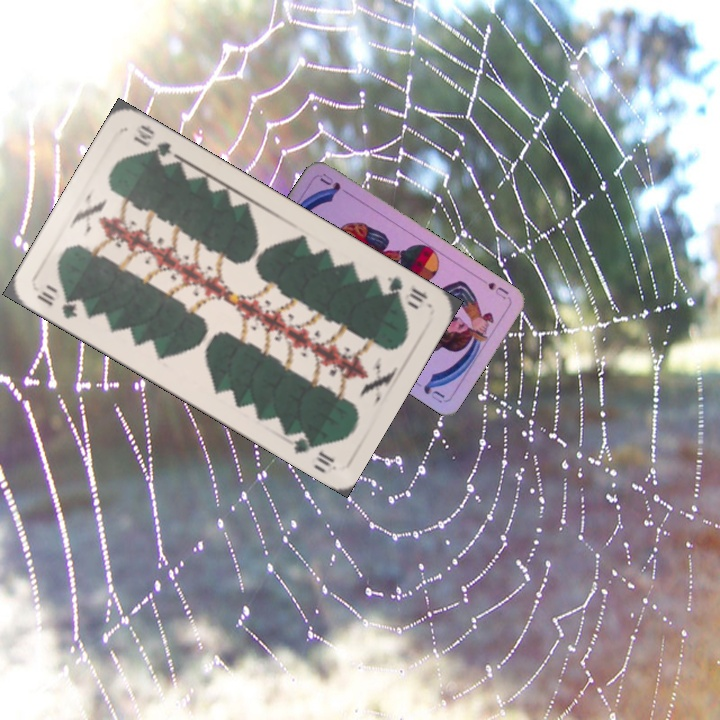G10: (383, 272, 431, 312), (32, 287, 80, 322)
SU: (484, 278, 511, 302)
